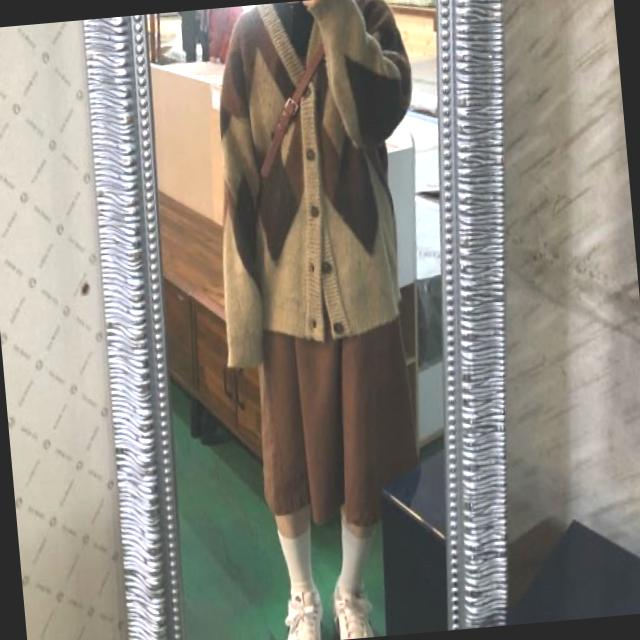cardigan: (193, 0, 433, 367)
skirt: (242, 268, 428, 524)
